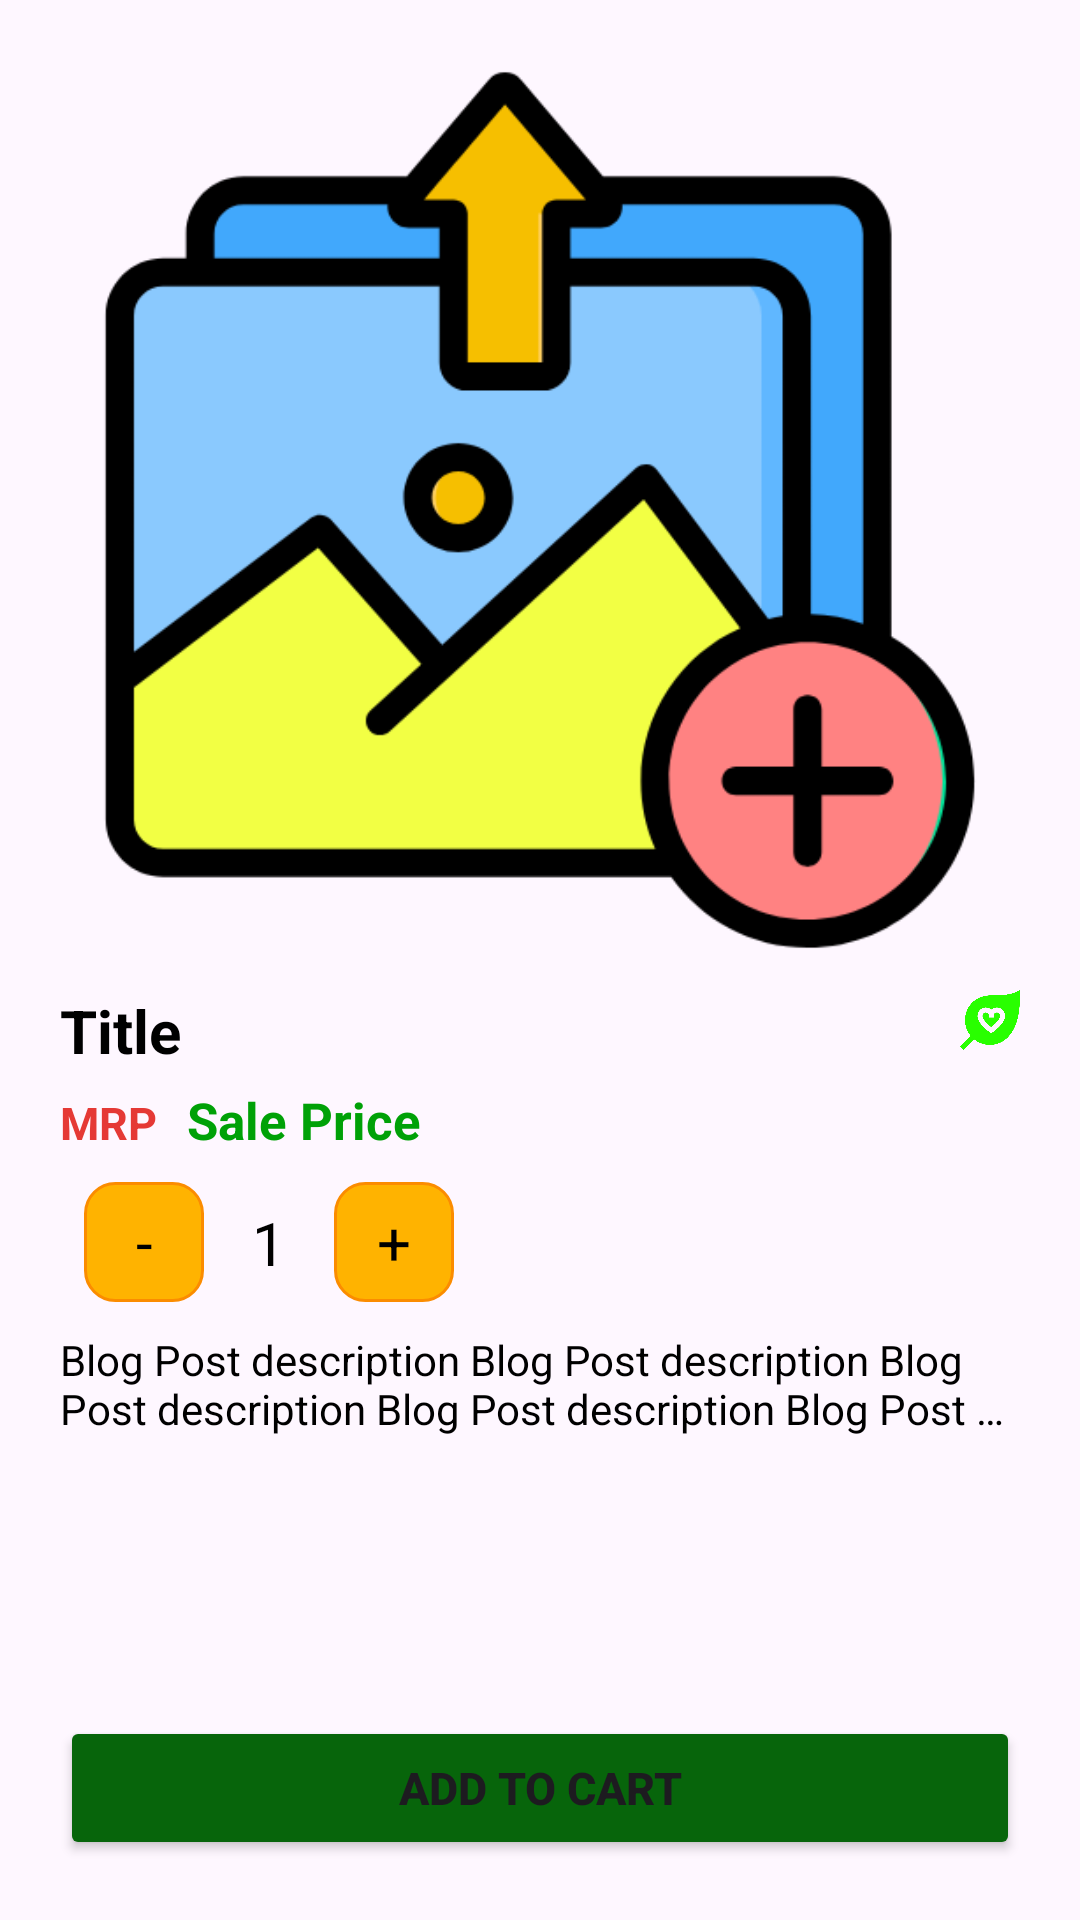

Icons on this 1080x1920 Android screen, each with its box as (x1, y1, x2, y2):
leafheart: (960, 990, 1020, 1050)
